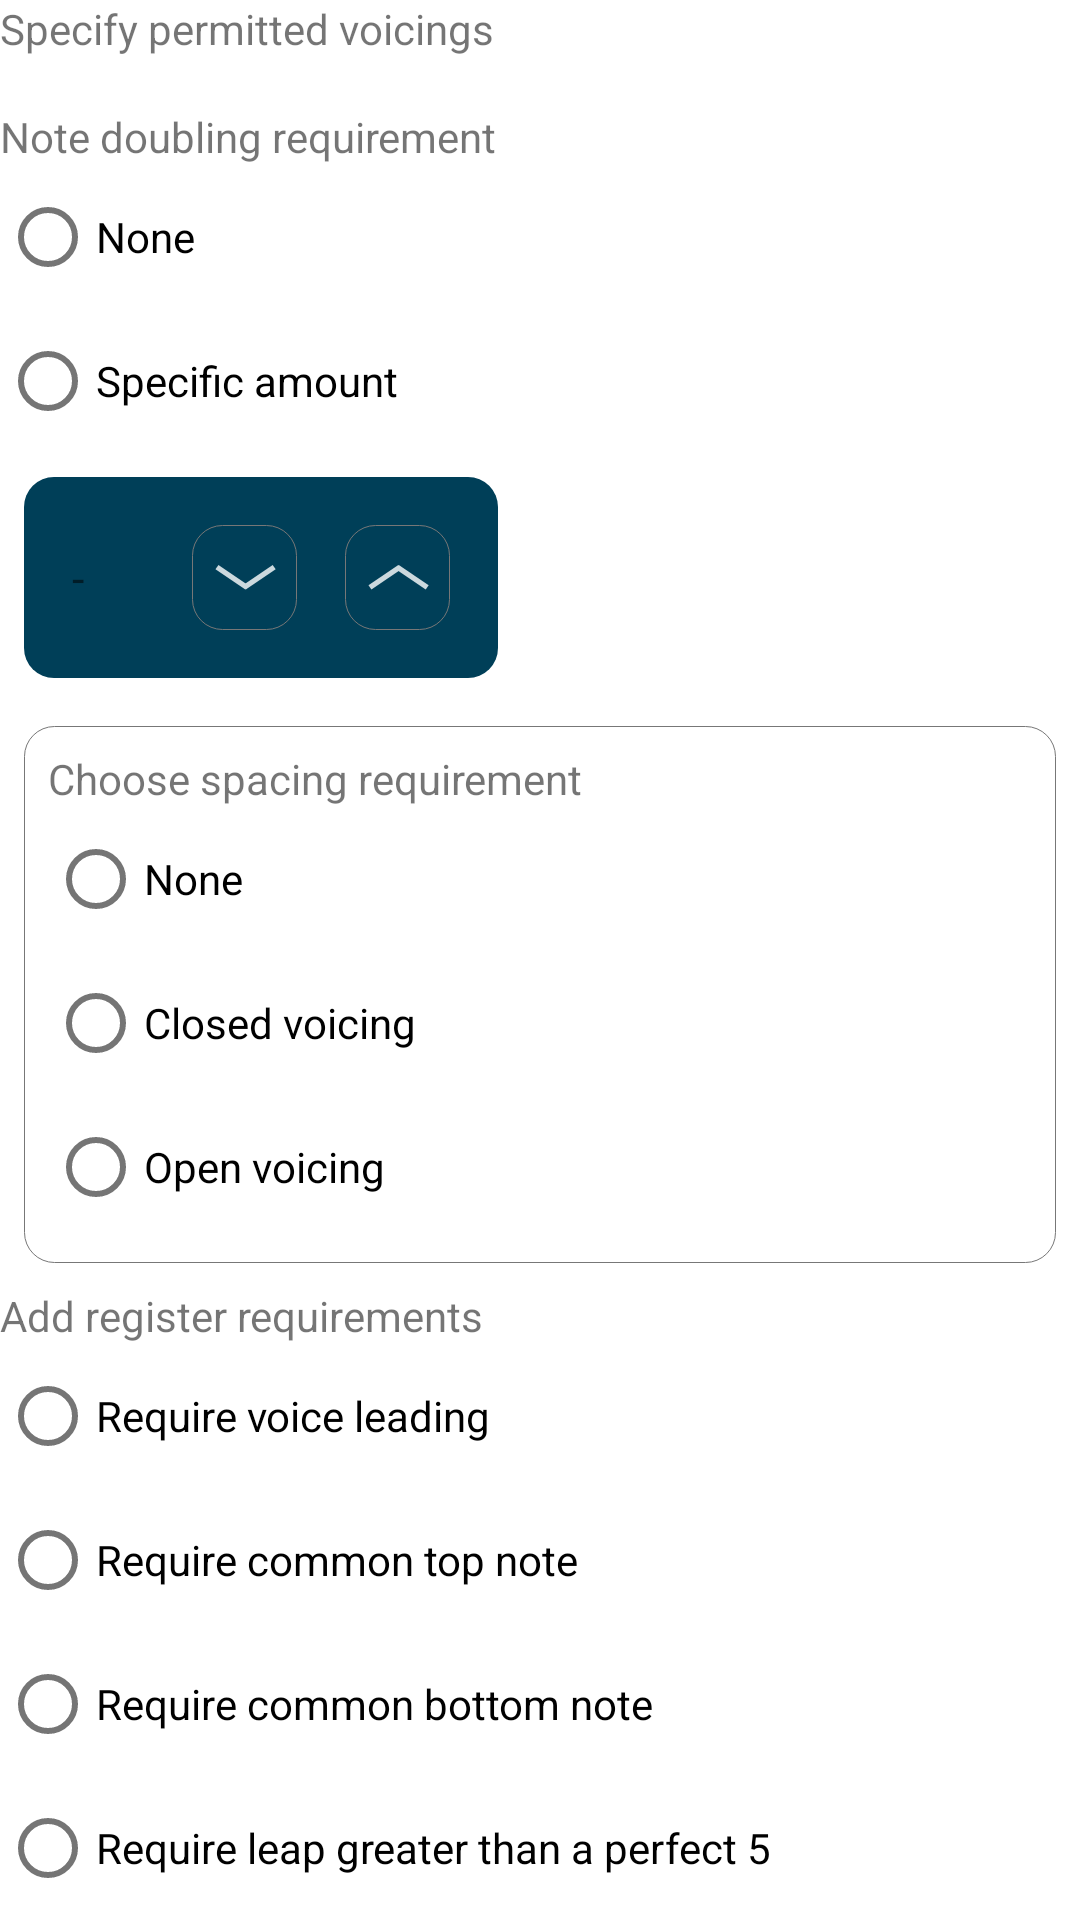

Screen size 1080w x 1920h. Icon name, then its box in pixels as (x1, y1, x2, y2):
down: (192, 525, 297, 630)
